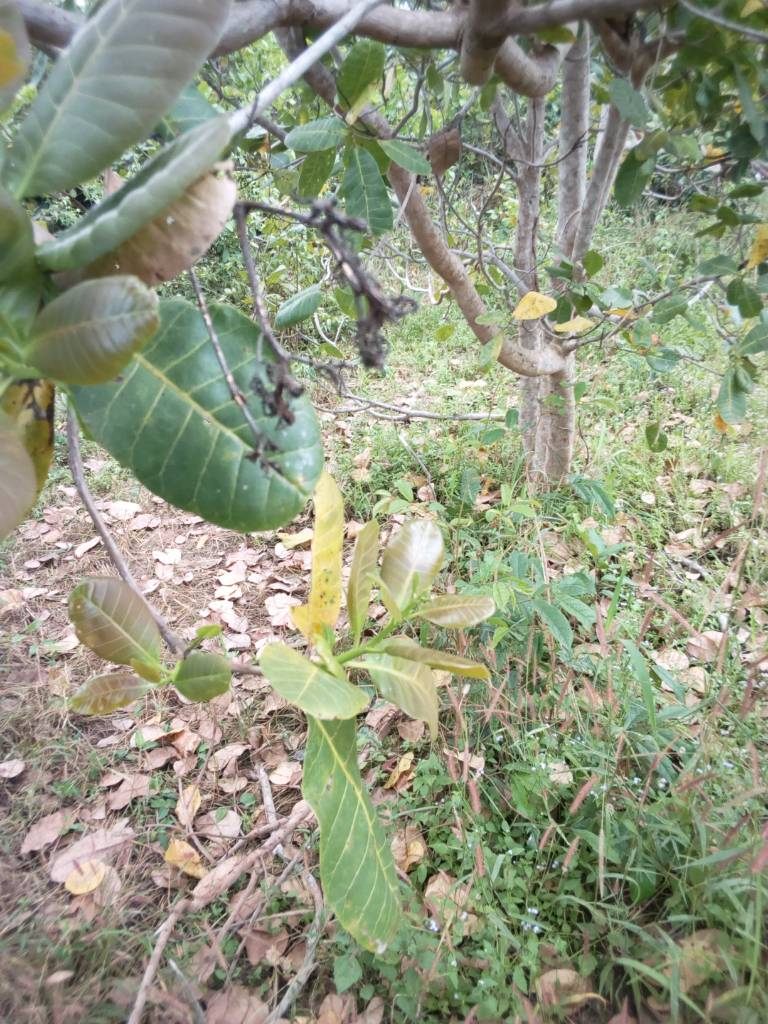Dessèchement des bourgeons: (300, 207, 419, 369), (252, 330, 354, 428)
